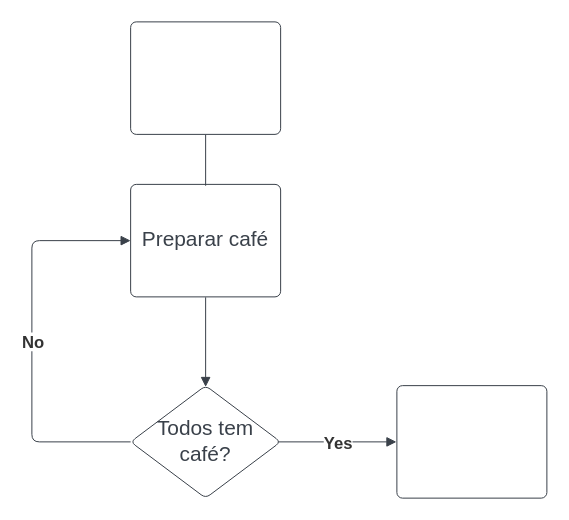
Some shapes in this 569 by 520 pixel diagram are drawn without their labels. Here are the shapes that lost their labels. From the top down, the centre of each, then its label:
the point at 205,77: Developers
the point at 471,441: Total de devs felizes
